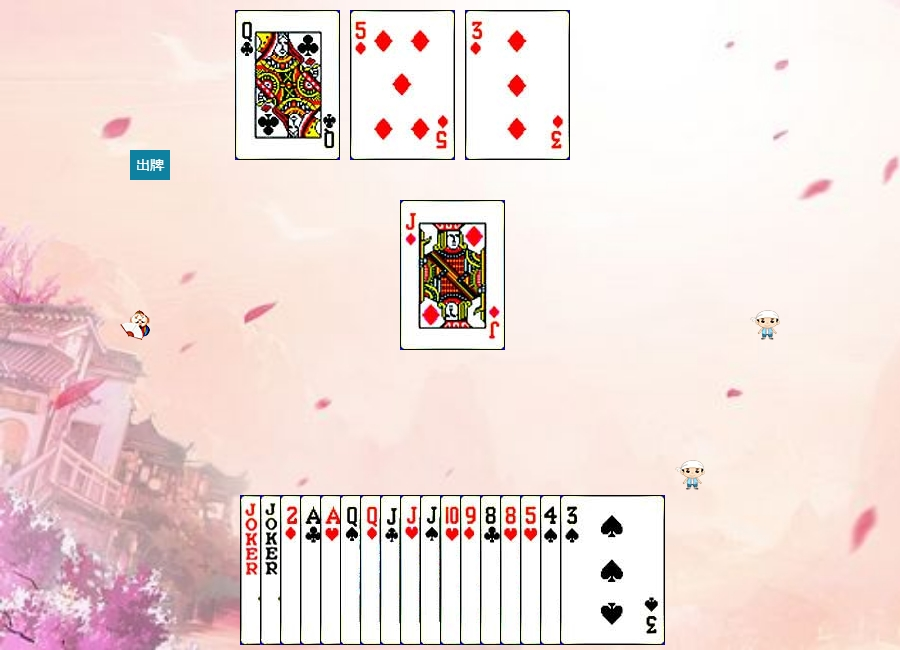10~3: (440, 495, 545, 645)
11~1: (400, 200, 505, 350)
11~2: (380, 495, 485, 645)
11~3: (400, 495, 505, 645)
11~4: (420, 495, 525, 645)
12~1: (360, 495, 465, 645)
12~2: (235, 10, 340, 160)
12~4: (340, 495, 445, 645)
14~2: (300, 495, 405, 645)
14~3: (320, 495, 425, 645)
15~1: (280, 495, 385, 645)
17~3: (260, 495, 365, 645)
18~4: (240, 495, 345, 645)
3~1: (465, 10, 570, 160)
3~4: (560, 495, 665, 645)
4~4: (540, 495, 645, 645)
5~1: (350, 10, 455, 160)
5~3: (520, 495, 625, 645)
8~2: (480, 495, 585, 645)
8~3: (500, 495, 605, 645)
9~1: (460, 495, 565, 645)
